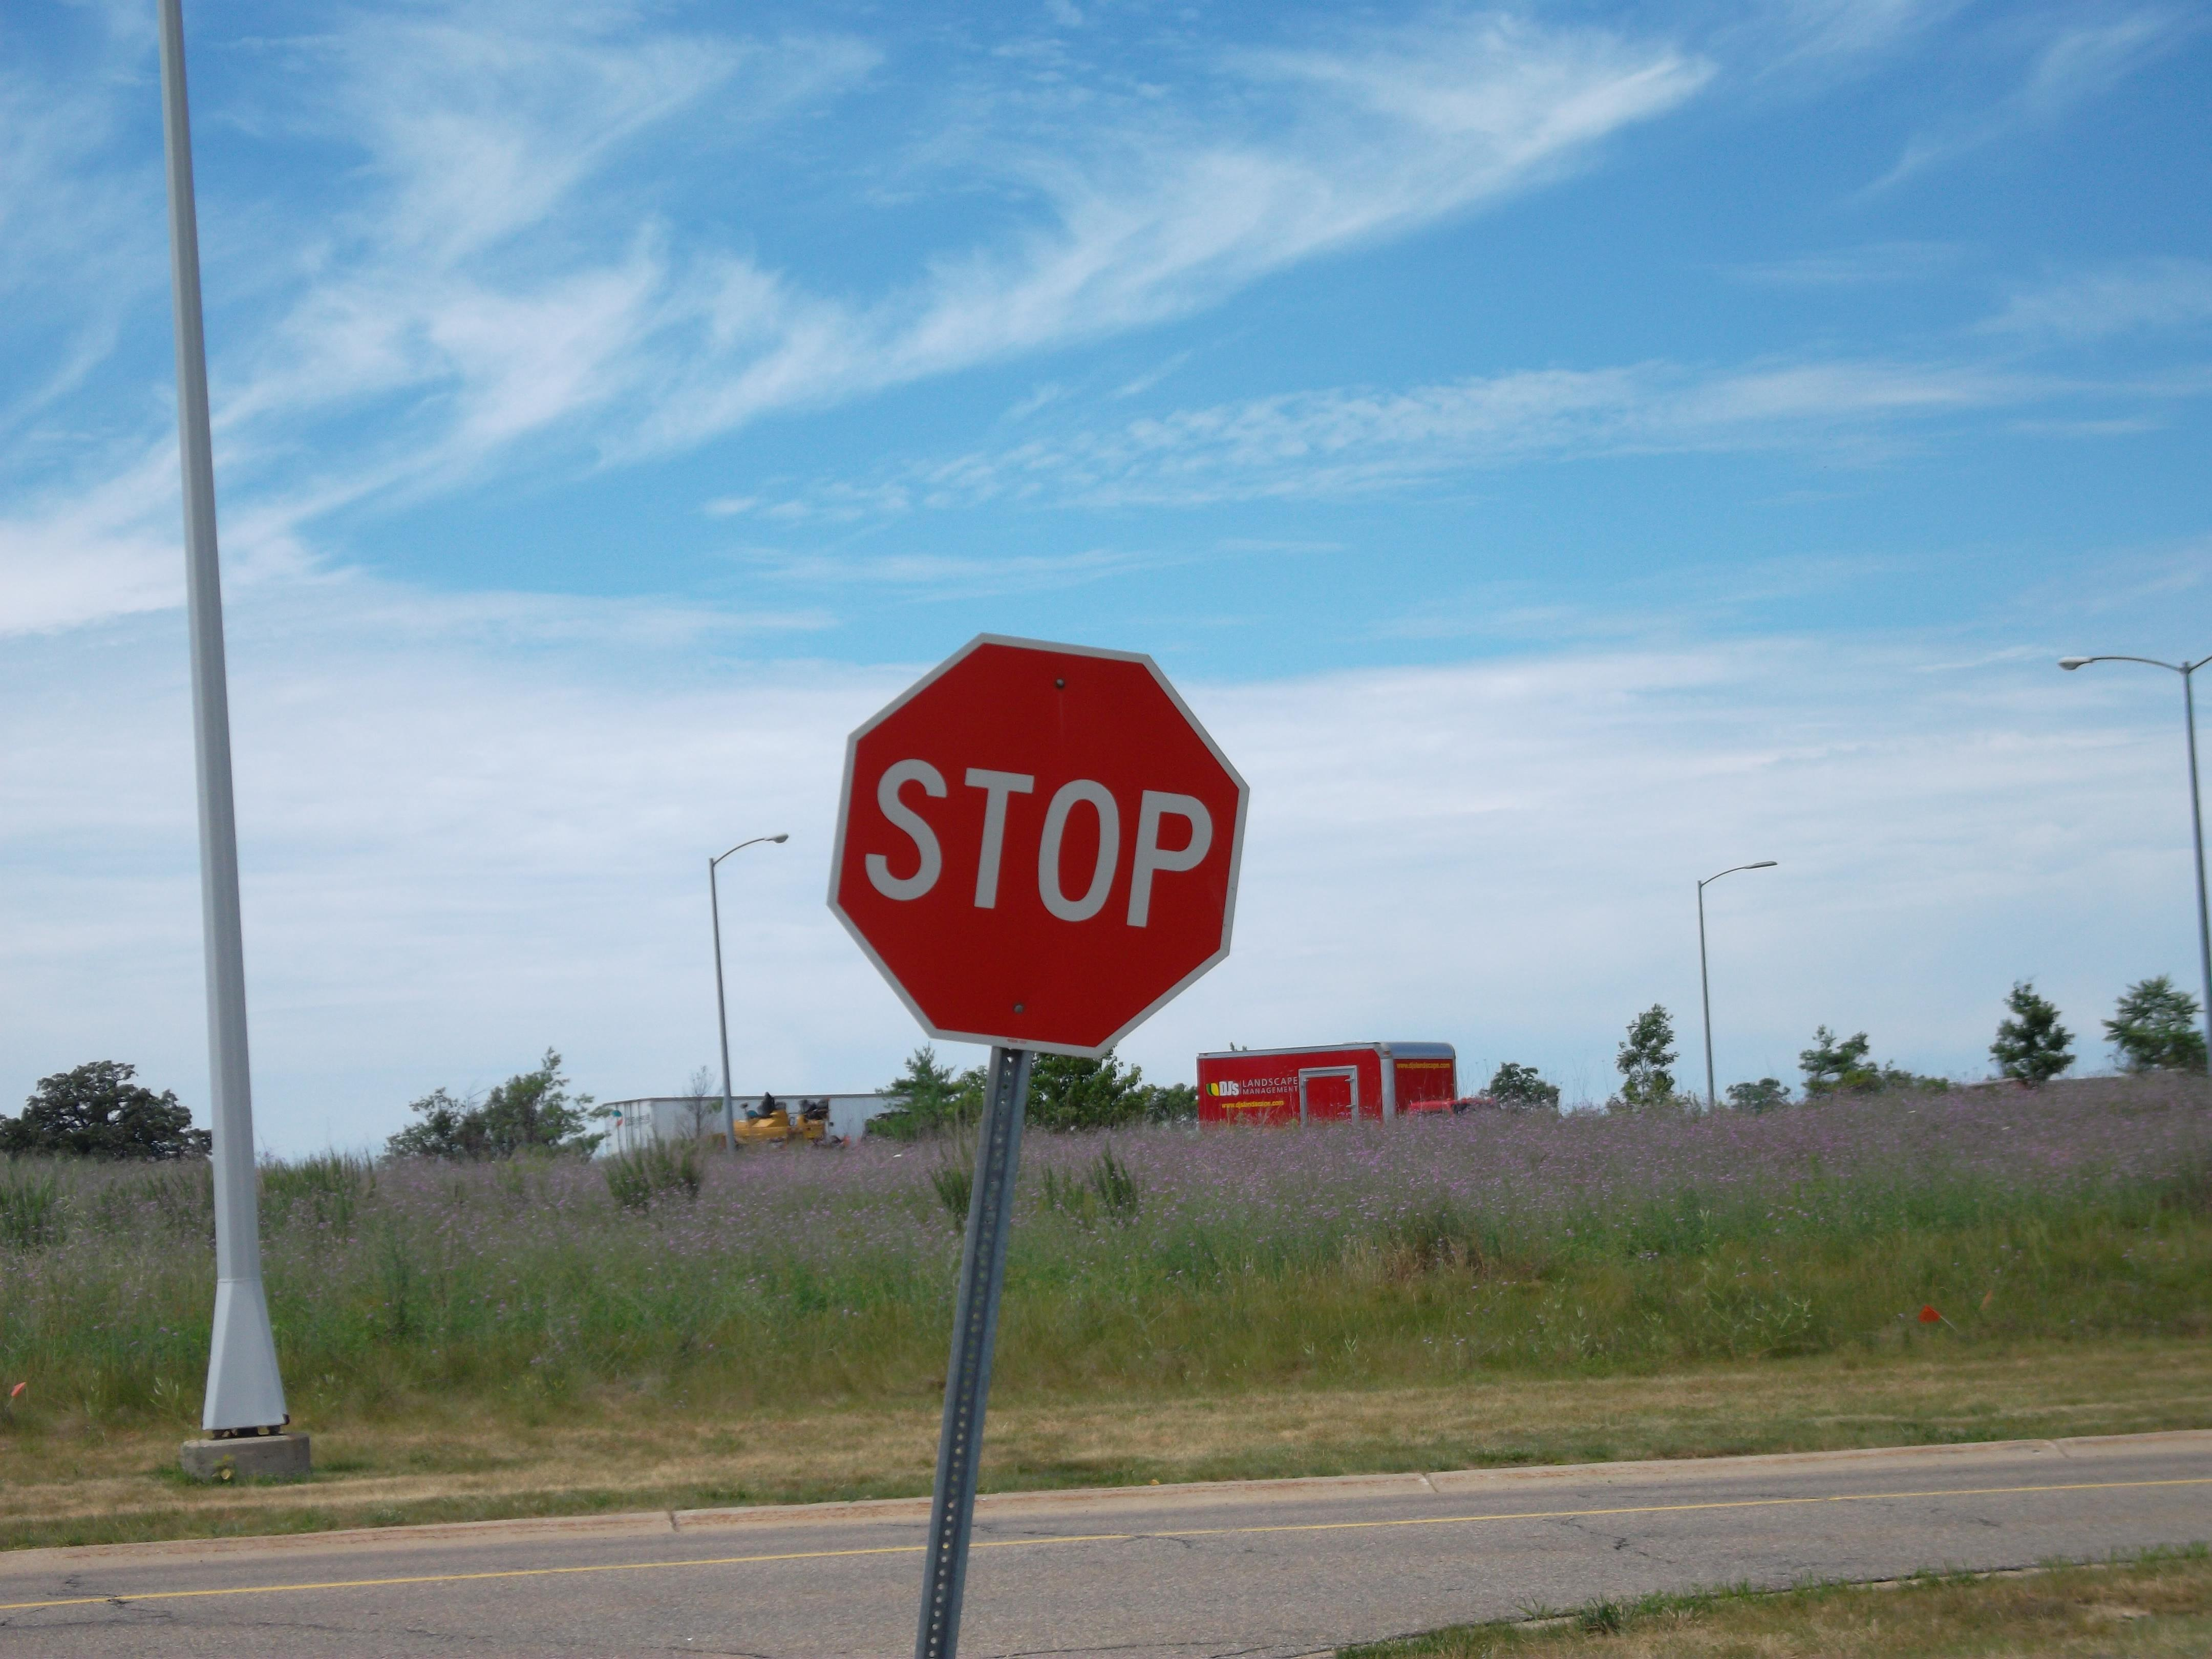stop: (819, 608, 1275, 1066)
